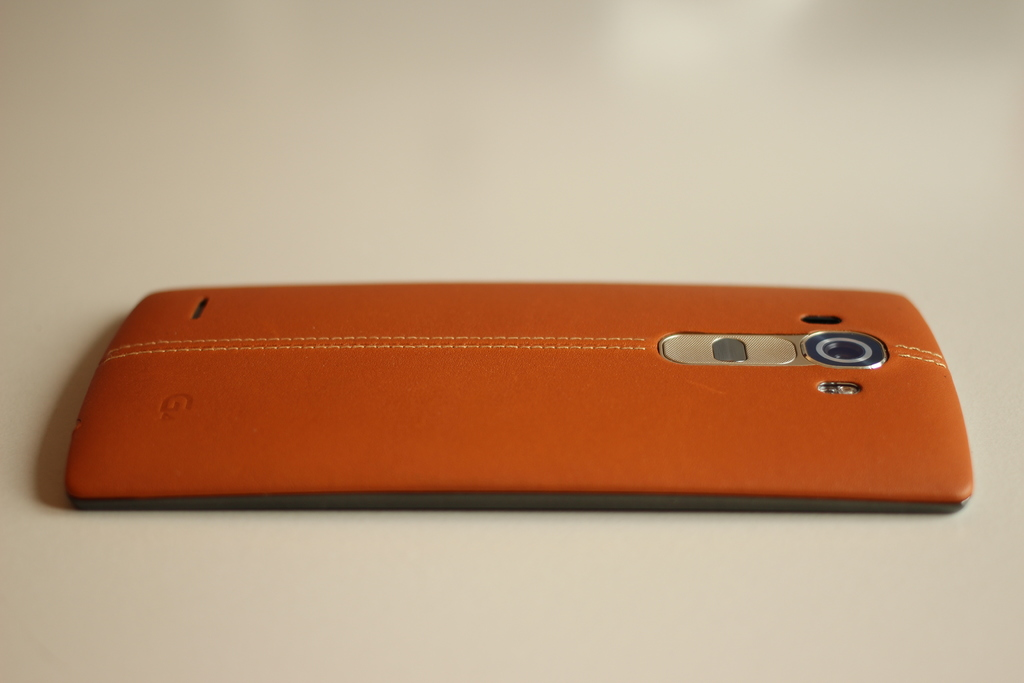mobile phone: (61, 279, 974, 517)
